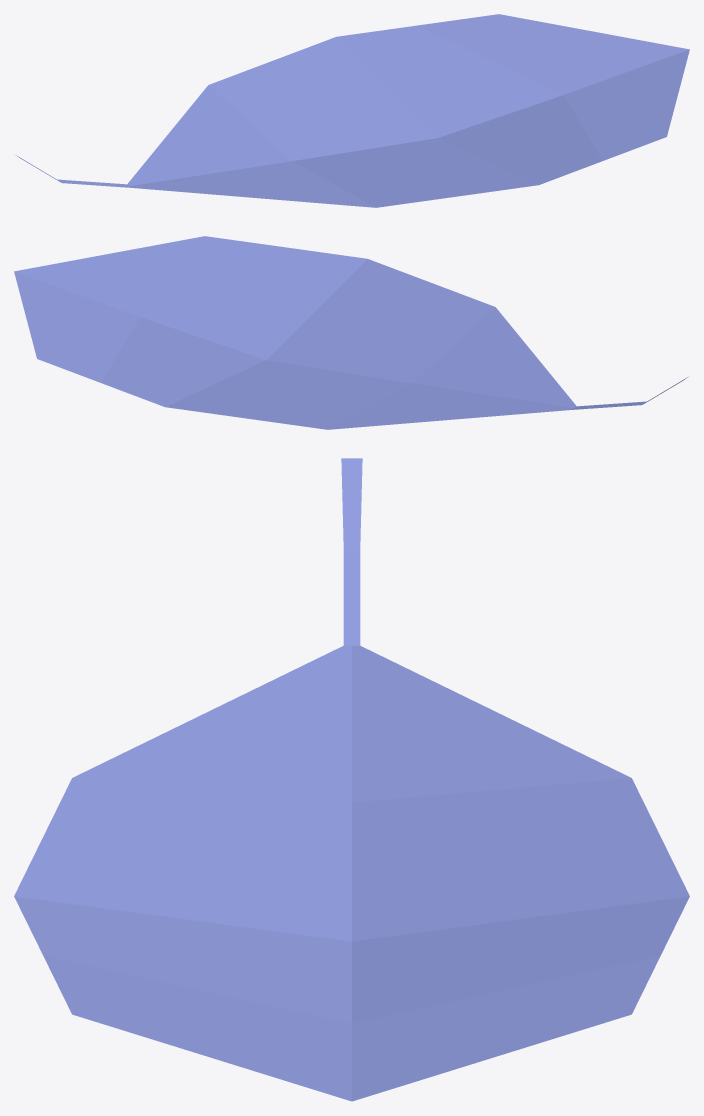
The model's file is leaf.glb.
The picture shows the model from 3 angles, top to bottom: view 1: azimuth 30°, elevation 25°; view 2: azimuth 150°, elevation 25°; view 3: azimuth 270°, elevation 25°; orthographic projection. The views are drawn at different scales.
Parts seen in each view (by area): view 1: Plane; view 2: Plane; view 3: Plane.
Part boxes in pixels (x1,y1,x2,y2): Plane: (16, 14, 689, 207); Plane: (14, 236, 687, 429); Plane: (14, 458, 689, 1101).
Bounding box in the file's own units: 4.63 × 0.5562 × 2.42.
